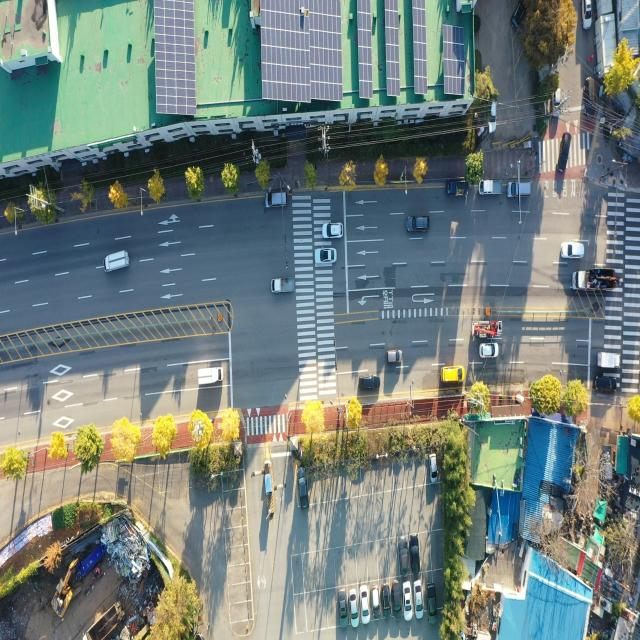car: (557, 133, 572, 175), (506, 184, 531, 201), (266, 192, 289, 210), (312, 247, 336, 264), (561, 242, 584, 259), (298, 465, 308, 504), (398, 538, 408, 576), (411, 534, 421, 572), (488, 96, 498, 134), (594, 376, 616, 393), (407, 216, 430, 232), (441, 368, 464, 384), (510, 0, 522, 29), (324, 221, 344, 238), (382, 584, 392, 618), (339, 590, 348, 627), (358, 376, 378, 392), (416, 582, 424, 620), (361, 586, 369, 624), (428, 582, 436, 620), (403, 581, 411, 618), (350, 589, 357, 625), (393, 580, 400, 616), (584, 0, 592, 30), (481, 344, 498, 358), (371, 584, 378, 616), (386, 351, 402, 364), (555, 88, 562, 117), (430, 455, 437, 483)
medium_truck: (83, 598, 123, 640), (572, 266, 617, 292)
small_truck: (473, 318, 503, 342), (479, 177, 505, 200), (104, 251, 130, 273), (198, 365, 225, 386), (584, 75, 595, 120), (272, 277, 296, 295), (447, 180, 469, 198), (597, 352, 620, 369)
